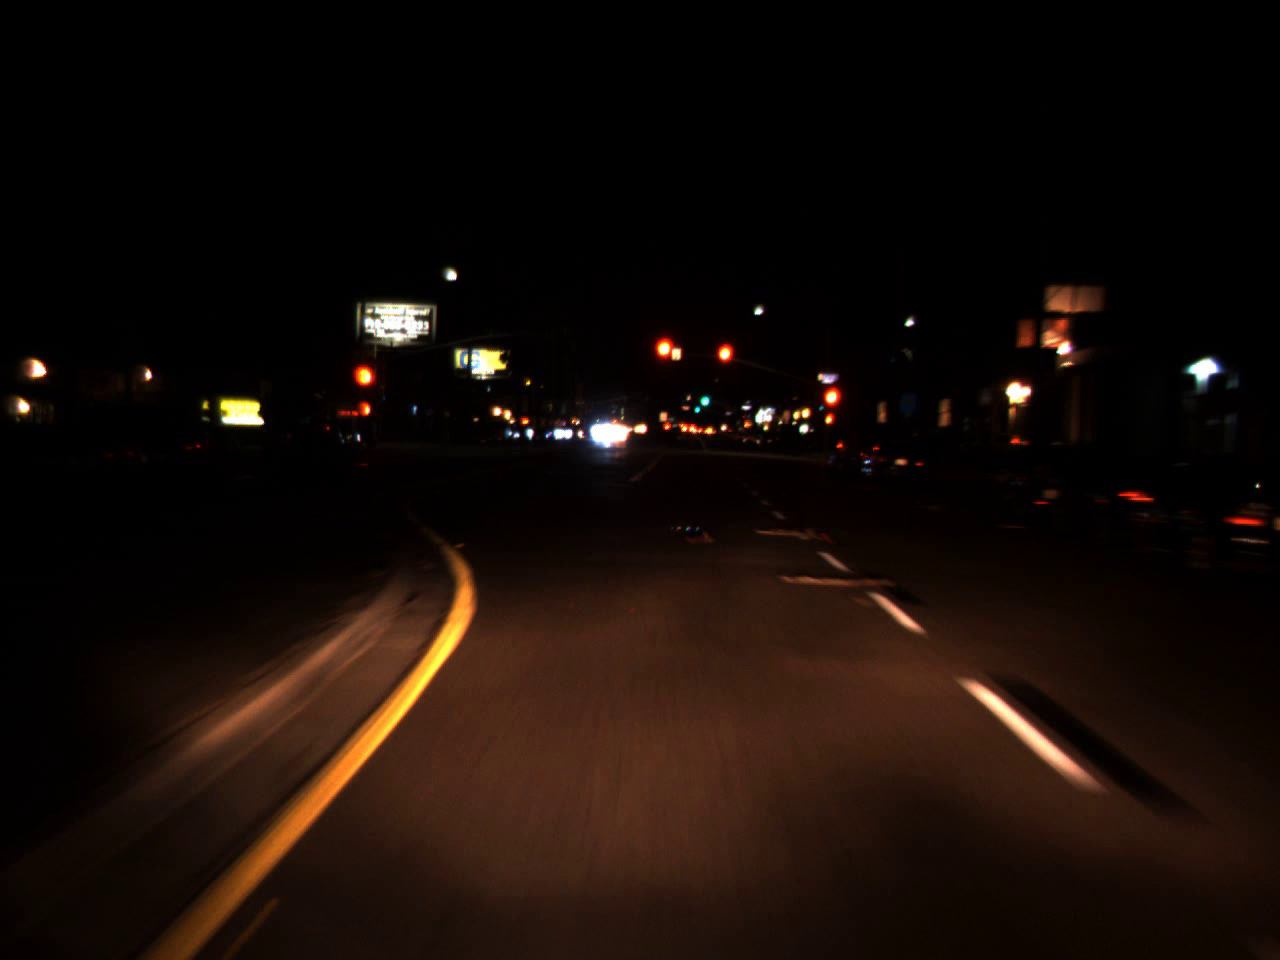go: (698, 385, 710, 409), (694, 402, 701, 414)
stop: (651, 334, 678, 385), (351, 362, 378, 413), (820, 383, 844, 431), (714, 339, 735, 387)
